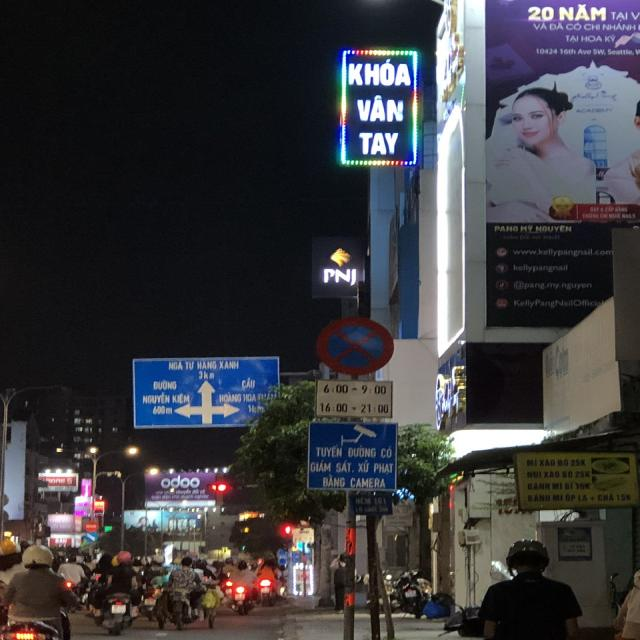Bien bao cam dung xe va do xe: (308, 310, 408, 378)
